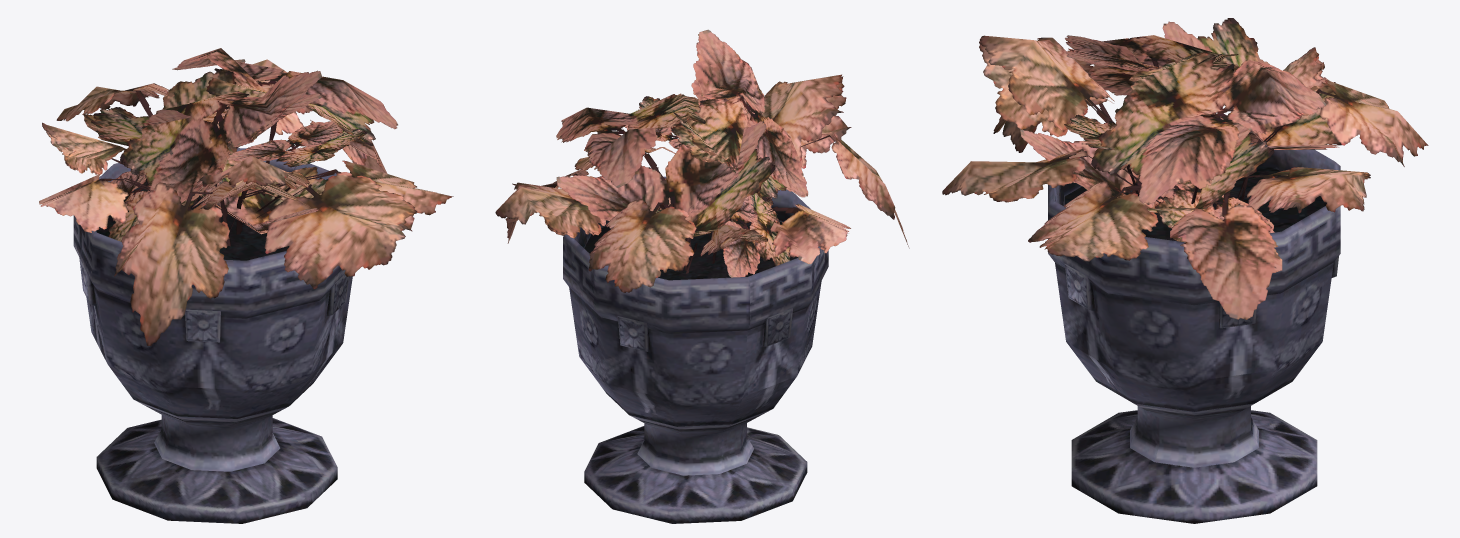
Rendered from pot_plant_small04_red.dae.
3 renders of one model, left to right at view 1: azimuth 30°, elevation 25°; view 2: azimuth 150°, elevation 25°; view 3: azimuth 270°, elevation 25°, orthographic. The views are drawn at different scales.
Visible parts, largest first — view 1: Cylinder01; view 2: Cylinder01; view 3: Cylinder01.
Boxes of the visible parts, x1,y1,x2,y2 form: Cylinder01: (39,48,453,523); Cylinder01: (495,29,909,523); Cylinder01: (942,18,1428,523).
Bounding box in the file's own units: 0.5218 × 0.5728 × 0.5825.
